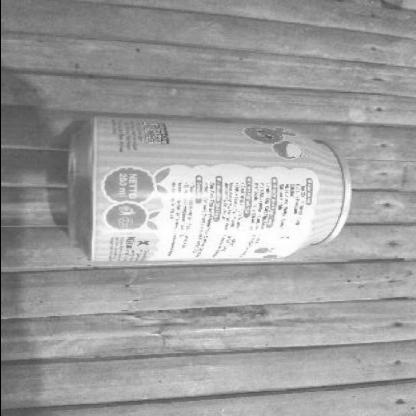alumunium_can: (61, 117, 350, 268)
